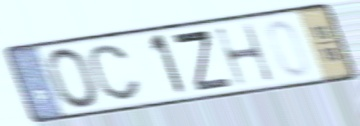0: (265, 18, 311, 79)
1: (147, 31, 190, 97)
C: (87, 43, 146, 104)
H: (211, 20, 278, 89)
O: (44, 45, 103, 112)
Z: (168, 28, 236, 93)
